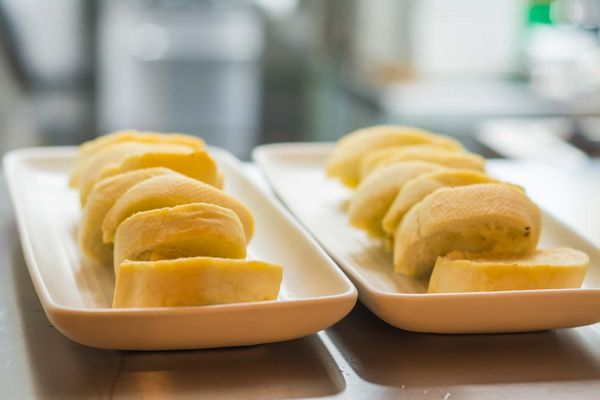sushi: (5, 135, 369, 351), (251, 122, 599, 335)
